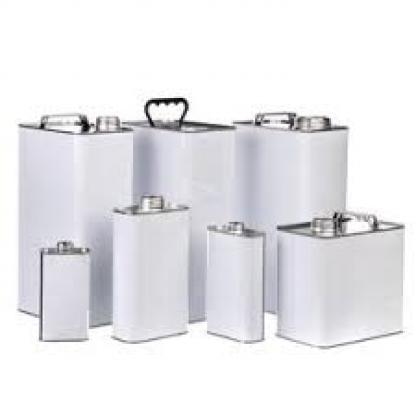METAL: (13, 113, 131, 327), (126, 96, 231, 329), (235, 111, 346, 316), (276, 211, 401, 351), (111, 192, 190, 348), (205, 216, 263, 346), (39, 237, 87, 342)
